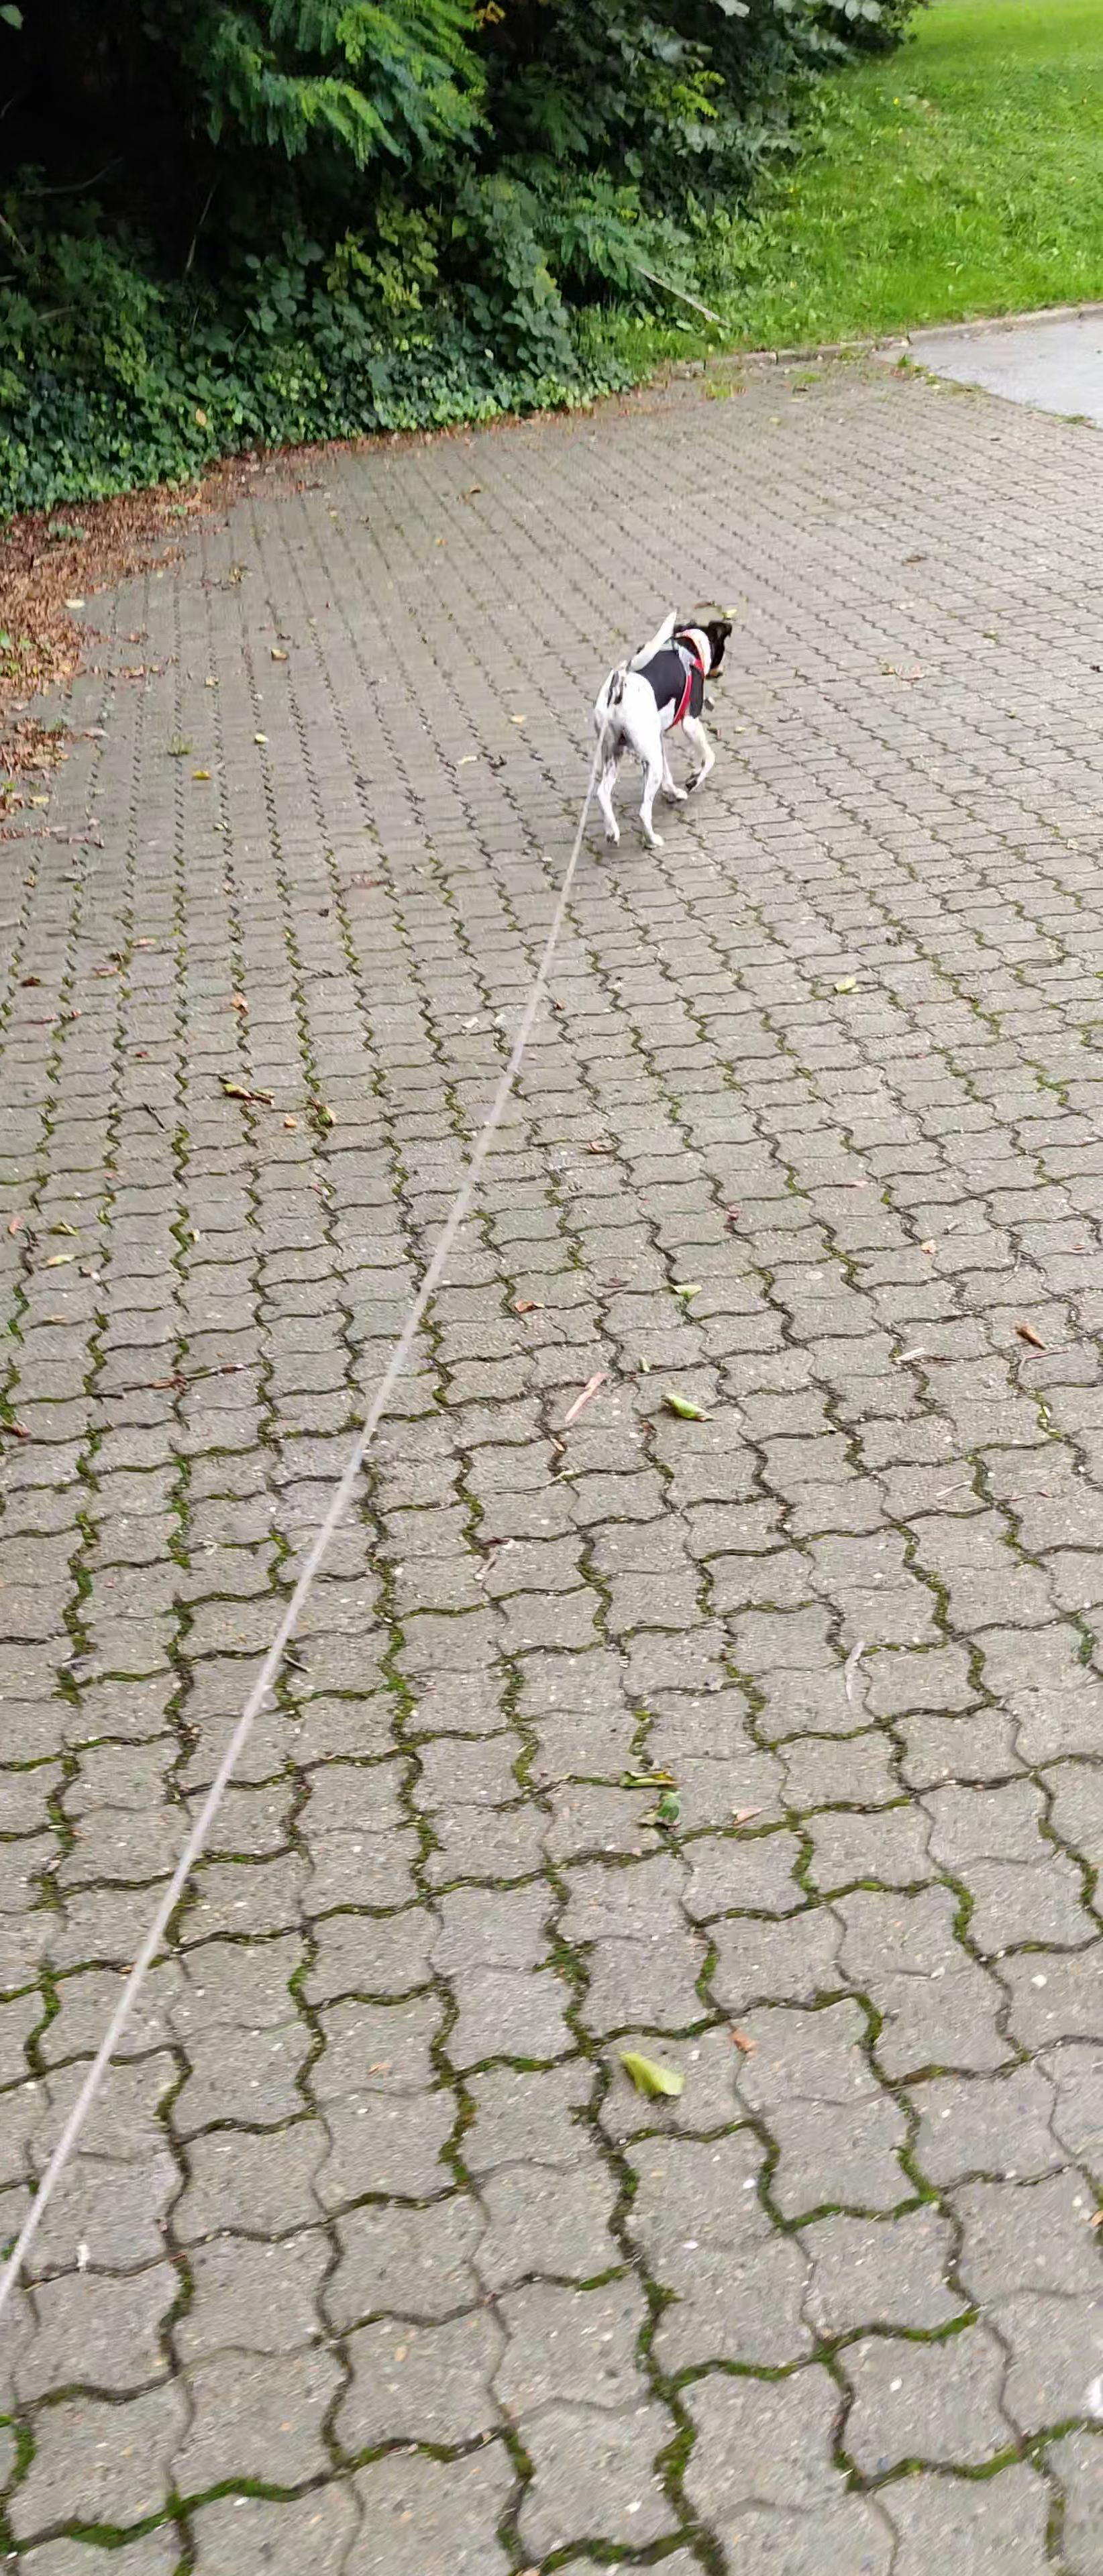Dog: (580, 603, 741, 853)
